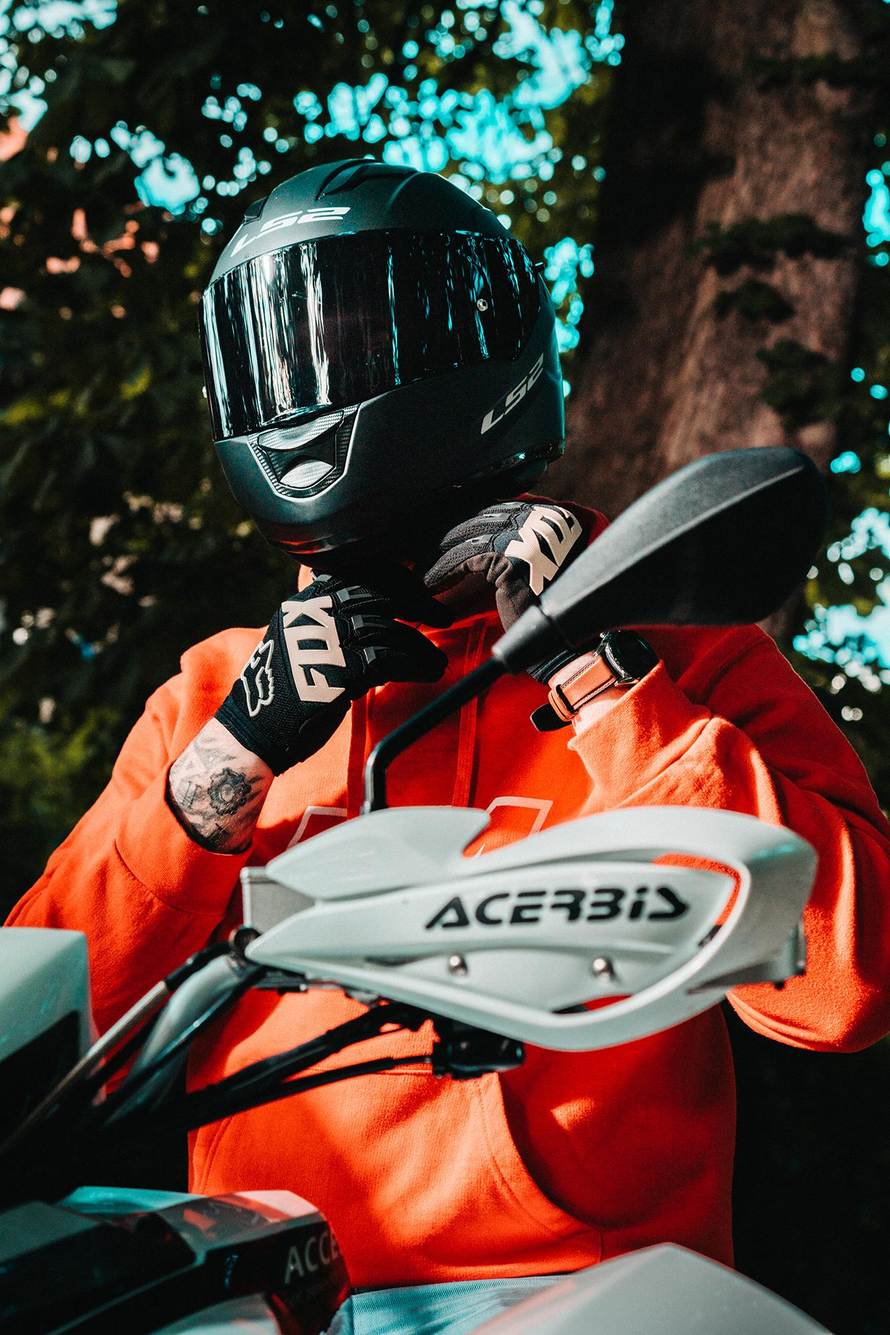helmet: (194, 155, 568, 576)
